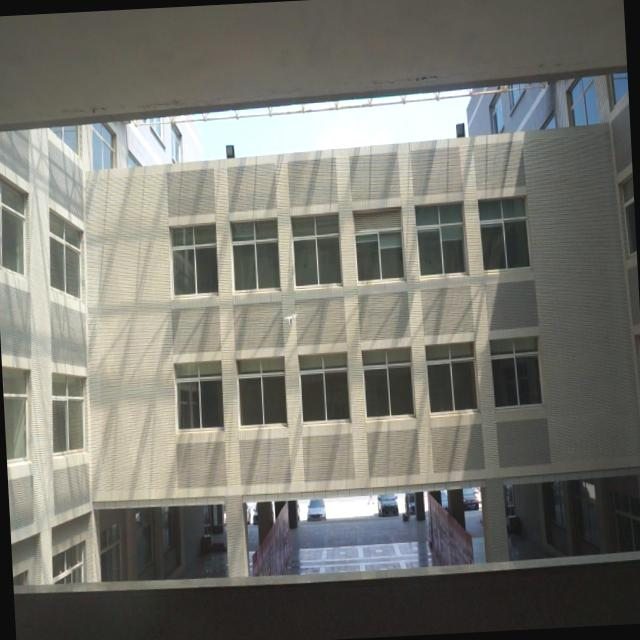drone: (282, 308, 298, 328)
